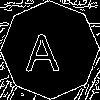A: (25, 25, 60, 71)
